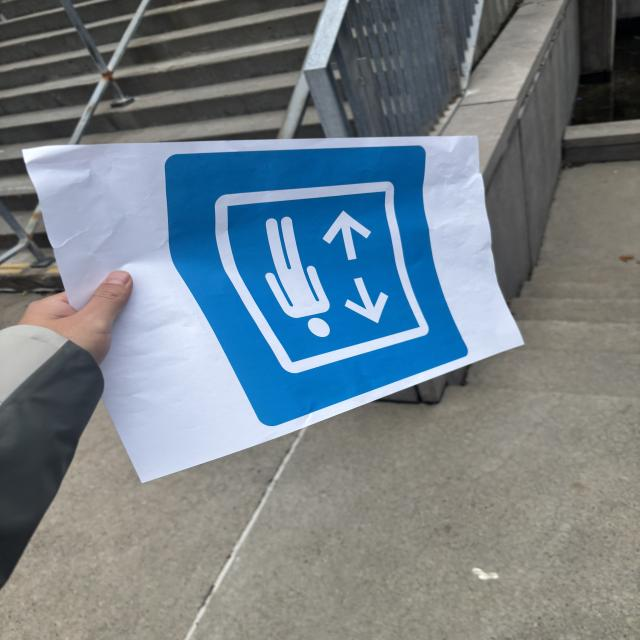elevator: (169, 149, 467, 432)
